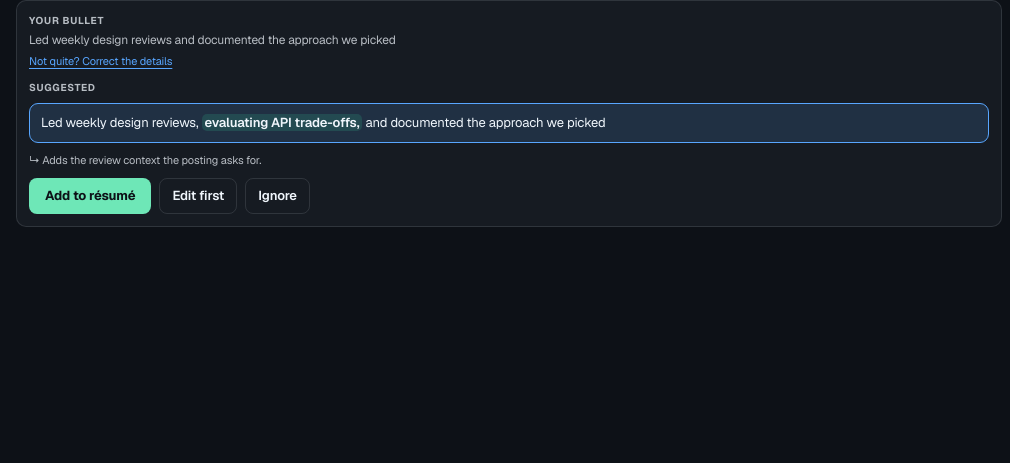
Scenario: the confirm step › reveals the fields only when the user says it is wrong
What coordinates should you click on to do the following:
click the button "Not quite? Correct the details"
I would click on:
 (101, 61)
Its box is [29, 53, 172, 70].
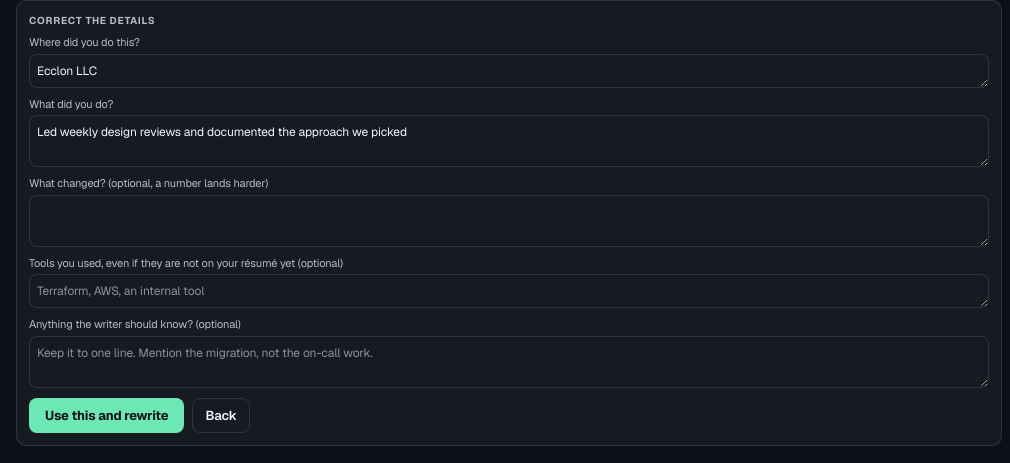
Result: the text box labelled "Where did you do this?" is shown at [29, 54, 989, 88]
Result: the text box labelled "What did you do?" is shown at [29, 115, 989, 167]
Result: the text box labelled "What changed? (optional, a number lands harder)" is shown at [29, 194, 989, 246]
